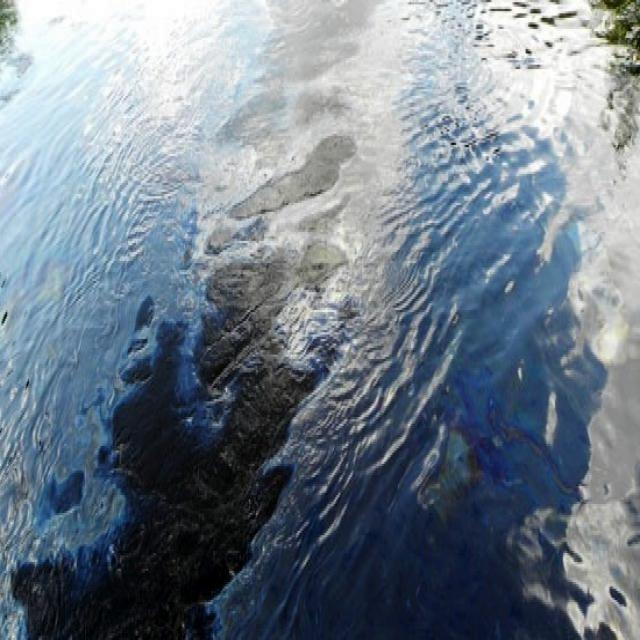oil: (5, 223, 366, 640)
